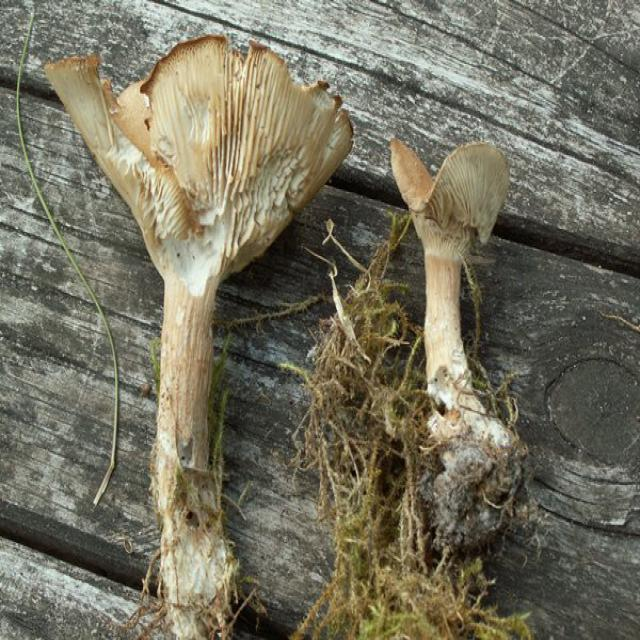Clitocybe maxima: (45, 38, 352, 634), (387, 140, 530, 554)
